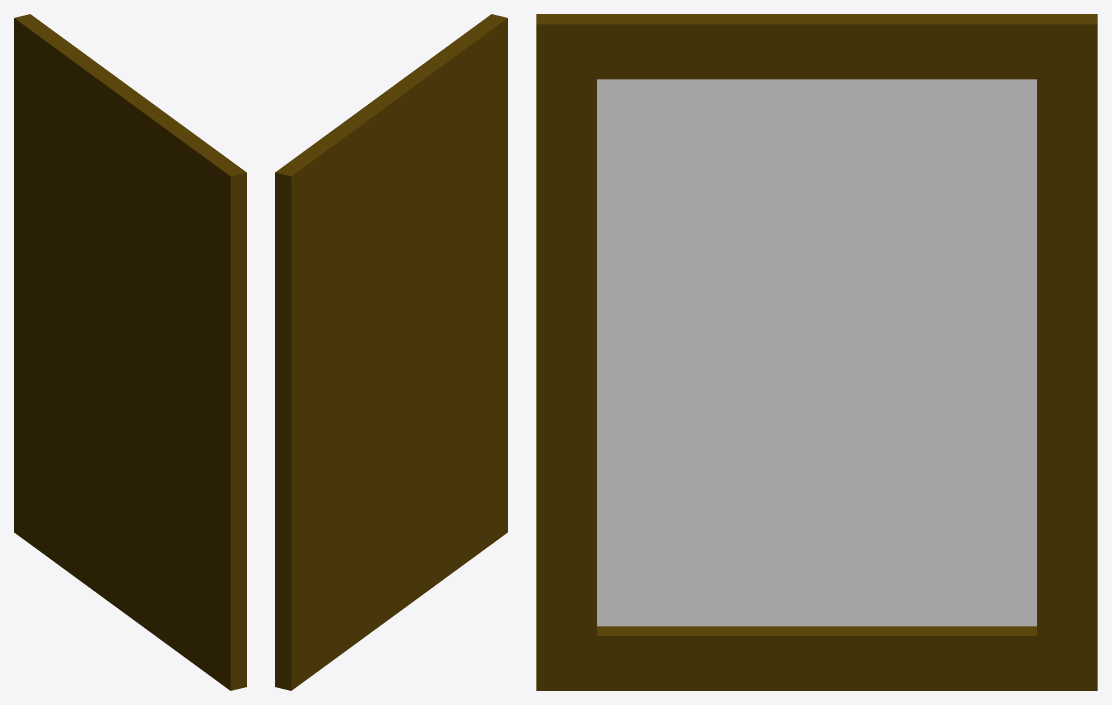
File: portrait.glb
The picture shows the model from 3 angles, left to right: view 1: azimuth 30°, elevation 25°; view 2: azimuth 150°, elevation 25°; view 3: azimuth 270°, elevation 25°; orthographic projection. The views are drawn at different scales.
Visible parts, largest first — view 1: picture; view 2: picture; view 3: picture.
Part boxes in pixels (x1=…): picture: x1=14, y1=14, x2=246, y2=690; picture: x1=275, y1=14, x2=507, y2=690; picture: x1=536, y1=14, x2=1097, y2=690.
Bounding box in the file's own units: 0.0601 × 1.82 × 1.39.
